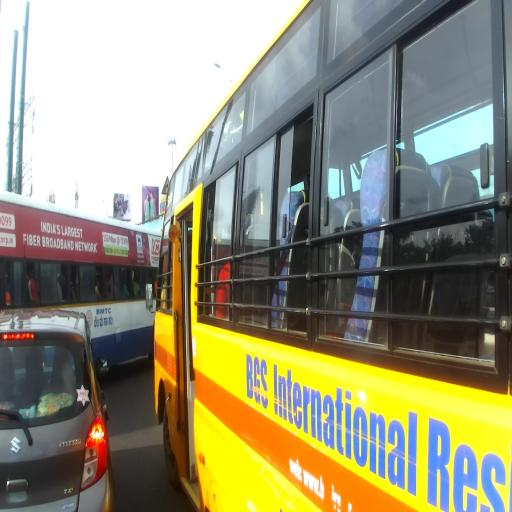street_light_0: (213, 60, 236, 86)
